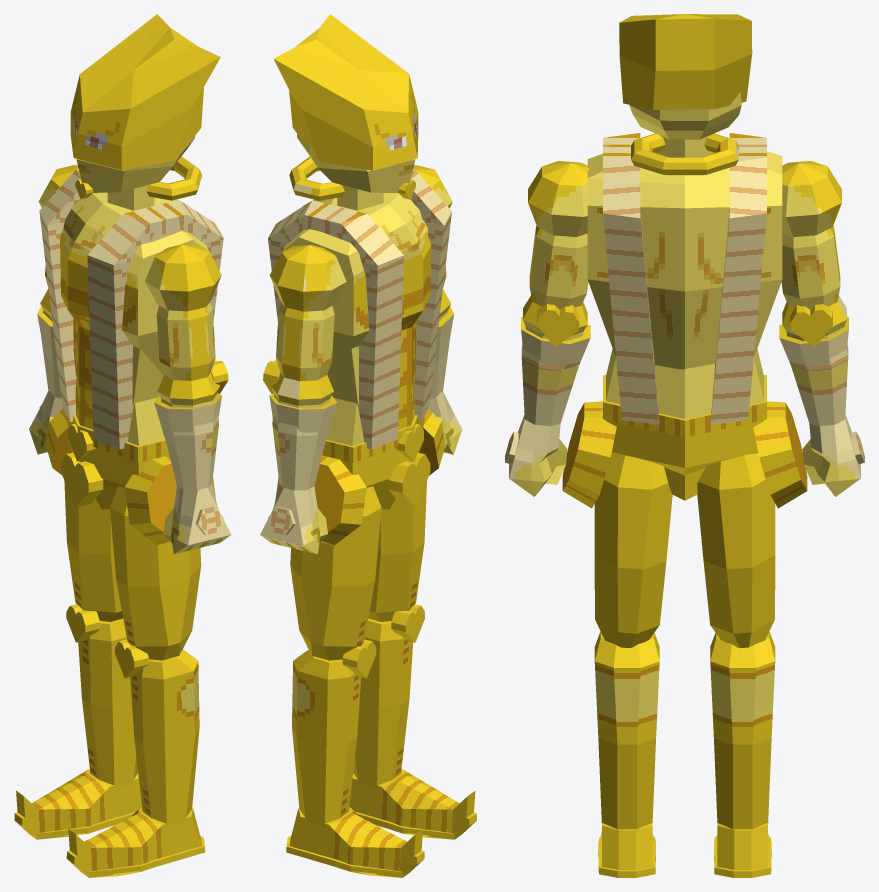
File: WorldA.glb
3 views of the same model, side by side, from view 1: azimuth 30°, elevation 25°; view 2: azimuth 150°, elevation 25°; view 3: azimuth 270°, elevation 25° (orthographic). The views are drawn at different scales.
Parts seen in each view (by area): view 1: Torso, Cabeça, Perna Cima E, Perna Baixo E, Perna Baixo D, Braço Cima E, Pélvis, Perna Cima D, Braço Baixo E, Pé E, Pé D, Mão E (+3 smaller); view 2: Torso, Cabeça, Perna Cima D, Perna Baixo D, Perna Baixo E, Braço Cima D, Pélvis, Perna Cima E, Braço Baixo D, Pé D, Pé E, Mão D (+3 smaller); view 3: Torso, Perna Cima D, Perna Cima E, Cabeça, Pélvis, Perna Baixo E, Perna Baixo D, Braço Cima E, Braço Cima D, Braço Baixo E, Braço Baixo D, Mão E (+3 smaller).
Part boxes in pixels (bbox=[...]): Torso: bbox=[39, 156, 223, 449]; Cabeça: bbox=[70, 14, 220, 199]; Perna Cima E: bbox=[110, 455, 215, 660]; Perna Baixo E: bbox=[115, 639, 199, 826]; Perna Baixo D: bbox=[66, 604, 138, 788]; Braço Cima E: bbox=[145, 244, 221, 380]; Pélvis: bbox=[61, 378, 169, 509]; Perna Cima D: bbox=[46, 409, 122, 621]; Braço Baixo E: bbox=[154, 358, 228, 490]; Pé E: bbox=[66, 807, 205, 877]; Pé D: bbox=[14, 769, 141, 839]; Mão E: bbox=[163, 483, 231, 553]; Torso: bbox=[268, 156, 451, 449]; Cabeça: bbox=[274, 14, 418, 199]; Perna Cima D: bbox=[275, 455, 381, 660]; Perna Baixo D: bbox=[292, 639, 376, 826]; Perna Baixo E: bbox=[353, 604, 424, 788]; Braço Cima D: bbox=[269, 245, 346, 381]; Pélvis: bbox=[322, 380, 430, 509]; Perna Cima E: bbox=[368, 409, 445, 621]; Braço Baixo D: bbox=[263, 358, 337, 490]; Pé D: bbox=[286, 807, 424, 877]; Pé E: bbox=[349, 769, 476, 839]; Mão D: bbox=[260, 483, 327, 554]; Torso: bbox=[587, 133, 782, 424]; Perna Cima D: bbox=[697, 401, 807, 648]; Perna Cima E: bbox=[562, 401, 672, 648]; Cabeça: bbox=[619, 14, 752, 139]; Pélvis: bbox=[603, 349, 766, 500]; Perna Baixo E: bbox=[594, 631, 659, 829]; Perna Baixo D: bbox=[710, 631, 775, 829]; Braço Cima E: bbox=[528, 161, 589, 309]; Braço Cima D: bbox=[781, 161, 841, 309]; Braço Baixo E: bbox=[521, 295, 590, 426]; Braço Baixo D: bbox=[779, 295, 848, 426]; Mão E: bbox=[505, 414, 567, 496].
Bounding box in the file's own units: 2.06 × 10.26 × 3.84.
5 materials, 5 textured.
